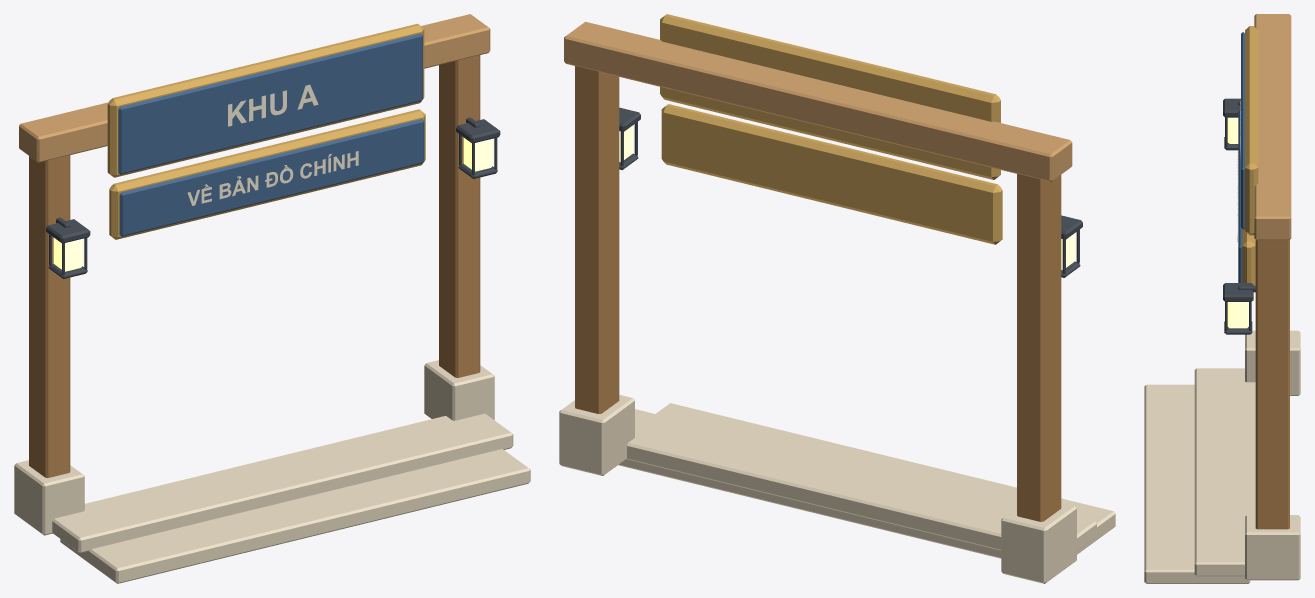
Rendered from exit-gate.glb.
3 views of the same model, side by side, from view 1: azimuth 30°, elevation 25°; view 2: azimuth 150°, elevation 25°; view 3: azimuth 270°, elevation 25° (orthographic). The views are drawn at different scales.
Visible parts, largest first — view 1: exit_gate; view 2: exit_gate; view 3: exit_gate.
Part boxes in pixels (x1=…): exit_gate: x1=14, y1=14, x2=530, y2=583; exit_gate: x1=559, y1=14, x2=1115, y2=583; exit_gate: x1=1144, y1=14, x2=1300, y2=583.
Size of the model in its own units: 3.65 by 3.31 by 1.18.
